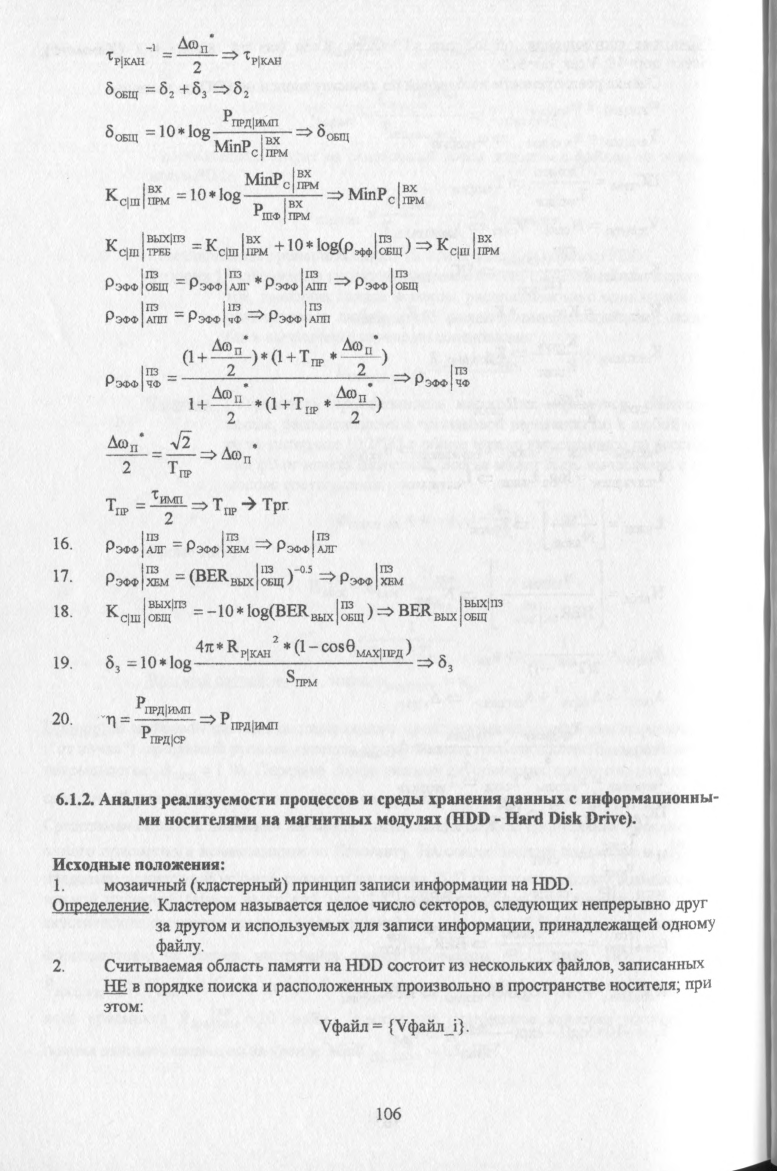BER.вых.пз.общ: (274, 598, 365, 624), (196, 565, 285, 590)
K.с.ш.вх.прм: (100, 179, 176, 214), (203, 232, 269, 259)
K.с.ш.вых.пз.общ: (102, 598, 189, 626)
K.сш.вых.пз.треб: (107, 230, 189, 260)
P.прд.имп: (134, 695, 195, 717), (219, 108, 280, 128)
P.прд.ср: (141, 724, 186, 746)
P.с.вх.прм: (241, 134, 290, 161), (274, 168, 320, 191)
P.шф.вх.прм: (253, 199, 312, 221)
R.р.кан: (229, 632, 269, 662)
S.прм: (283, 668, 322, 690)
T.пр: (298, 342, 325, 368), (291, 394, 321, 416), (166, 459, 191, 482), (105, 493, 128, 516)
group: (98, 337, 387, 426), (100, 632, 412, 689), (98, 166, 323, 222), (94, 106, 296, 160), (103, 230, 414, 263), (97, 595, 375, 627), (102, 266, 333, 297), (98, 562, 316, 590)
Δω.п: (172, 34, 212, 54), (209, 383, 245, 404), (104, 433, 139, 454), (340, 338, 375, 358), (334, 386, 373, 403), (209, 339, 243, 355)
δ.2: (158, 75, 178, 100)
δ.3: (102, 648, 124, 678), (188, 77, 210, 102)
δ.общ: (96, 121, 144, 144), (96, 81, 144, 101)
η: (105, 707, 118, 733)
θ.max.прд: (346, 637, 402, 660)
ρ.эфф.пз.алг: (103, 532, 168, 560), (189, 268, 249, 296)
ρ.эфф.пз.апп: (263, 269, 329, 295), (103, 302, 168, 326)
ρ.эфф.пз.общ: (342, 233, 403, 259), (107, 270, 172, 294)
ρ.эфф.пз.хем: (187, 531, 248, 558), (101, 565, 168, 587)
ρ.эфф.пз.чф: (184, 300, 244, 329), (101, 366, 163, 393)
τ.имп: (146, 489, 183, 506)
τ.р.кан: (101, 45, 146, 68)
